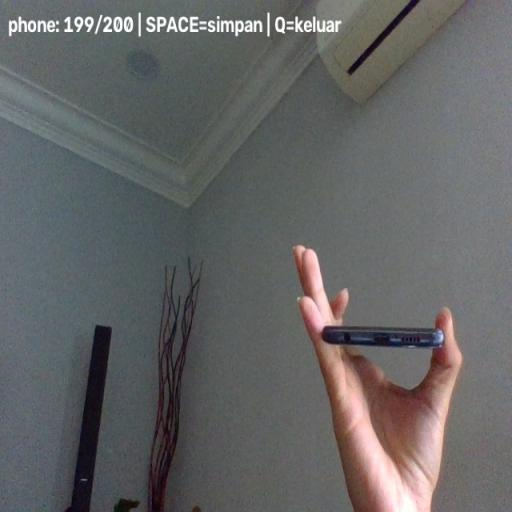Phone: (320, 324, 446, 348)
